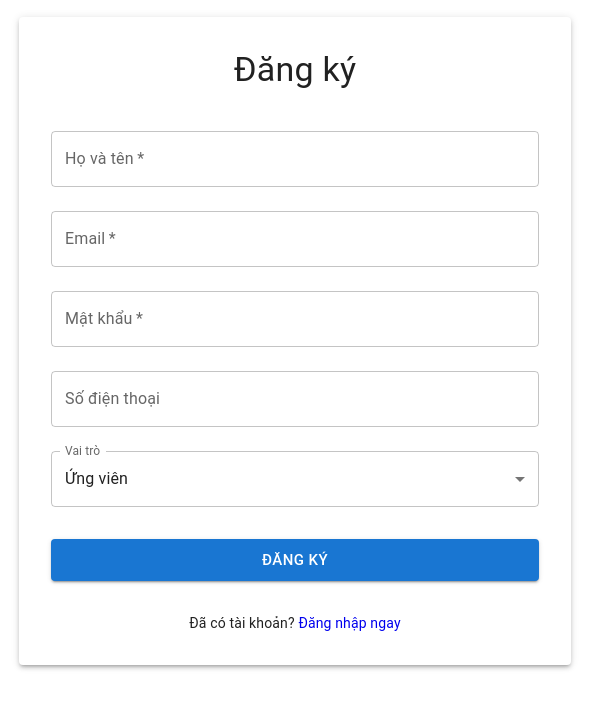
Test case: RegisterPage - Error Handling & Validation › Client-side Validation › should NOT submit form when validation fails
User submits with invalid email
Type "invalid-email" into the field labelled "Email *" at (295, 239), box [51, 211, 539, 267]
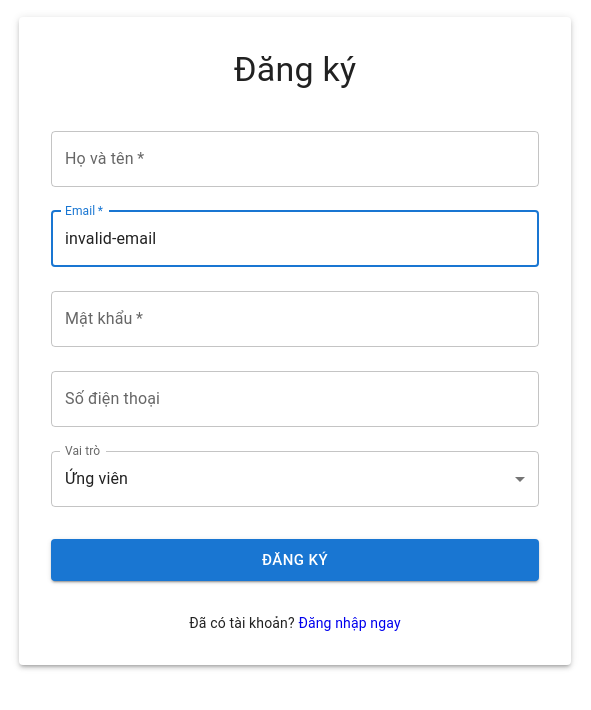
Click the button "Đăng ký" at (295, 560), box [51, 539, 539, 581]
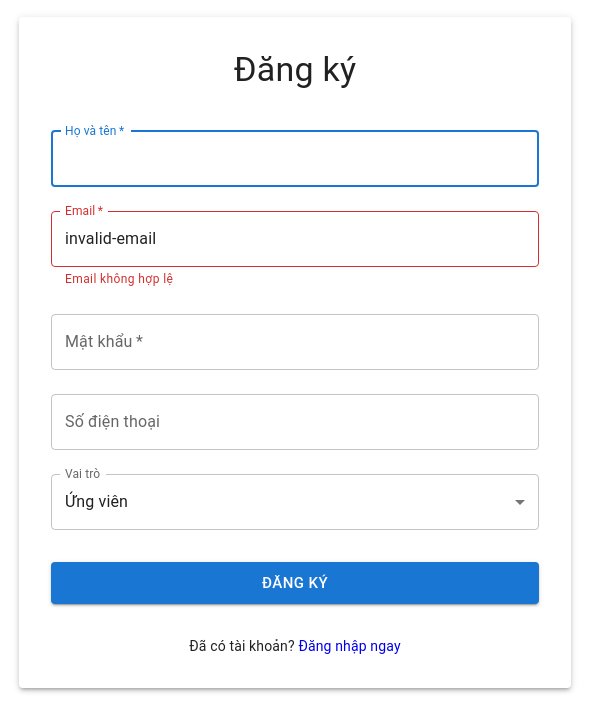
expect the text "Email không hợp lệ" is shown: met, box [65, 272, 173, 286]
